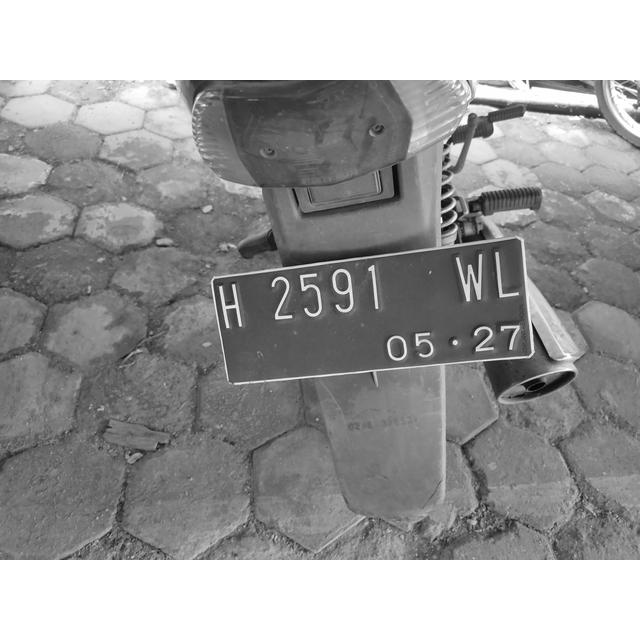license: (216, 249, 524, 363)
